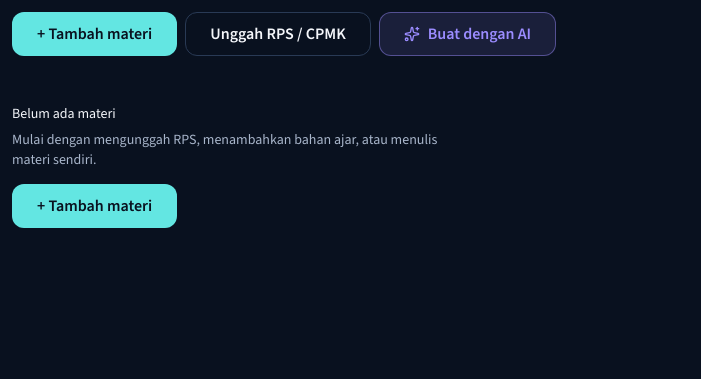
Test: daftar materi dosen › menyingkirkan ajakan memulai begitu panel terbuka
The image size is (701, 379).
Click the button "+ Tambah materi" in the row of "Buat dengan AI": point(95, 34) 12,12 -> 177,56
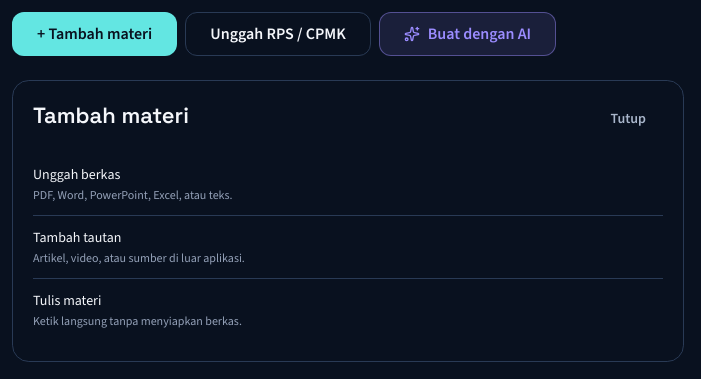
Now the text "Belum ada materi" is gone
